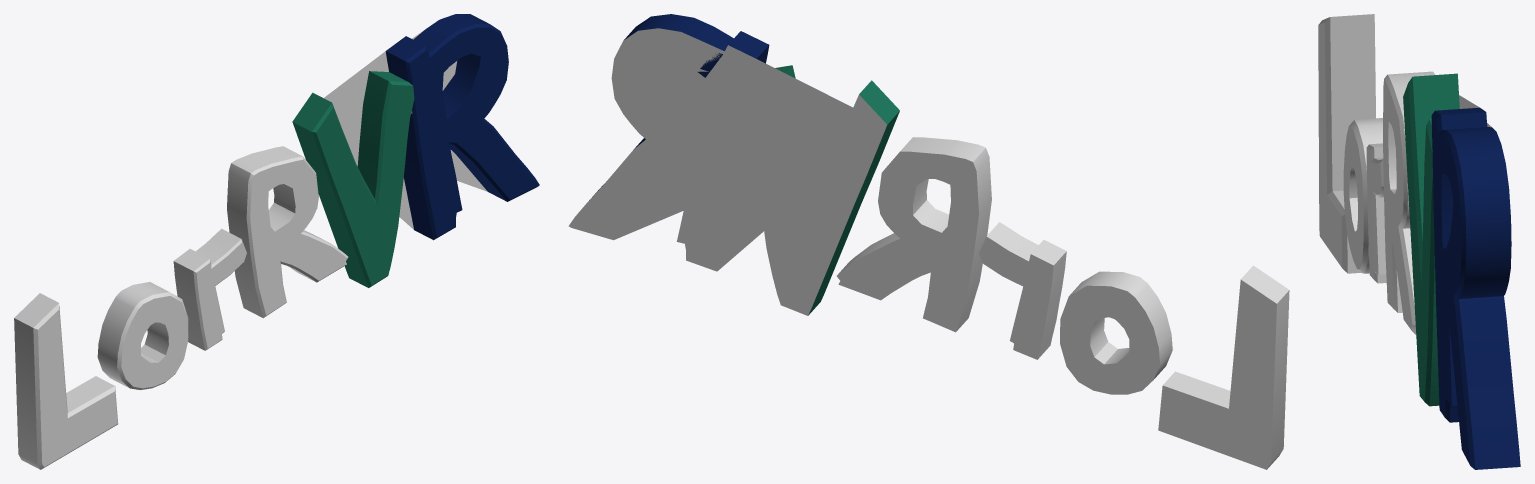
The model's file is LorR_VR_Splash 1.fbx.
The picture shows the model from 3 angles, left to right: view 1: azimuth 30°, elevation 25°; view 2: azimuth 150°, elevation 25°; view 3: azimuth 270°, elevation 25°; orthographic projection. The views are drawn at different scales.
Parts seen in each view (by area): view 1: LorR VR; view 2: LorR VR; view 3: LorR VR.
Boxes of the visible parts, box(x1,y1,x2,y2) form: LorR VR: box(14, 14, 539, 469); LorR VR: box(568, 14, 1289, 469); LorR VR: box(1318, 14, 1520, 469).
Size of the model in its own units: 361 by 182 by 76.06.
